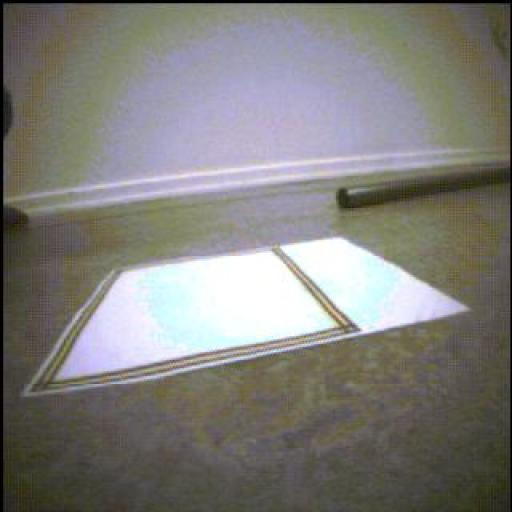Pad: (25, 240, 468, 397)
